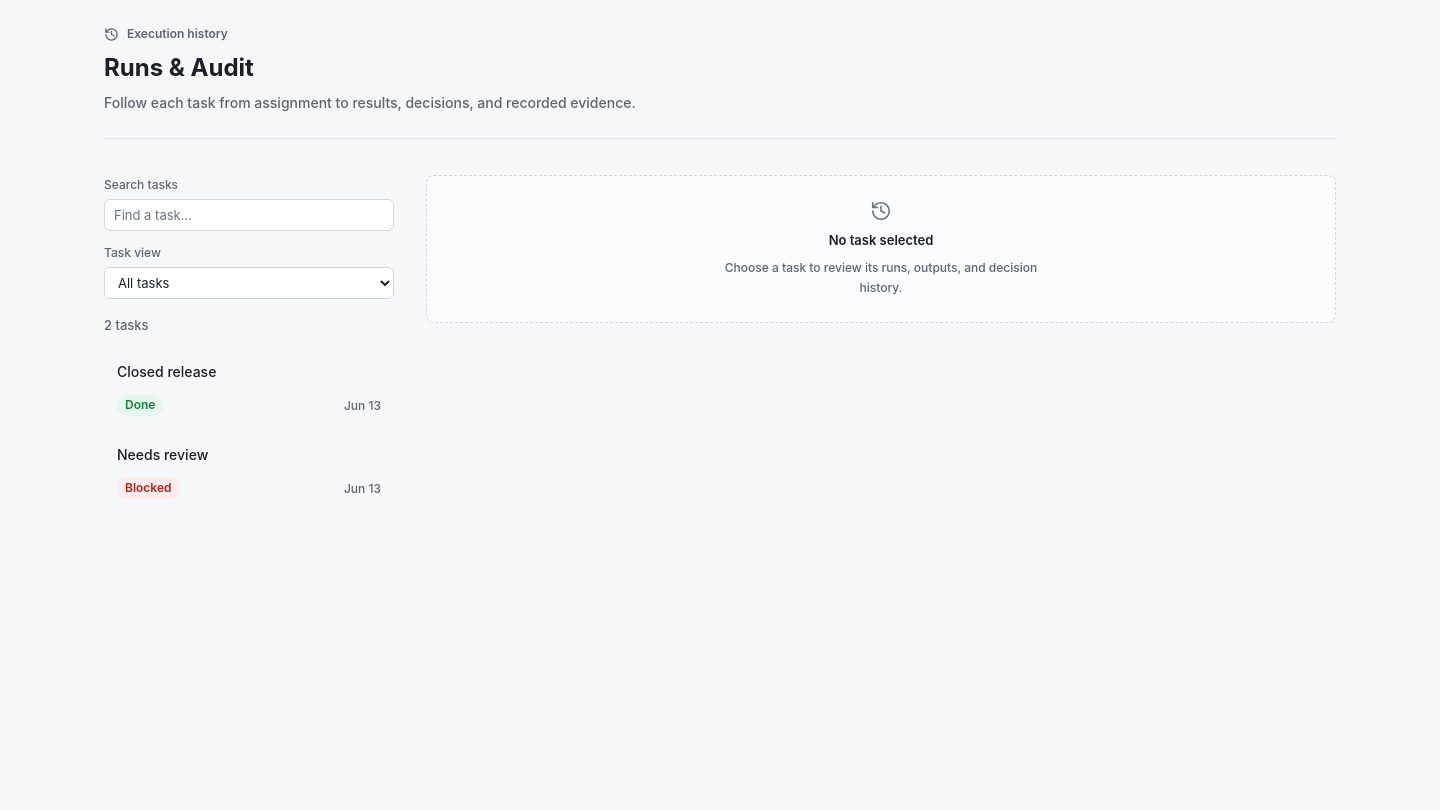
Test: RunsAuditPage › filters tasks while preserving the evidence already selected
This screenshot has width=1440, height=810.
Click the button "Closed release done Jun 13". click: {"x": 167, "y": 372}
box: [104,348,394,429]
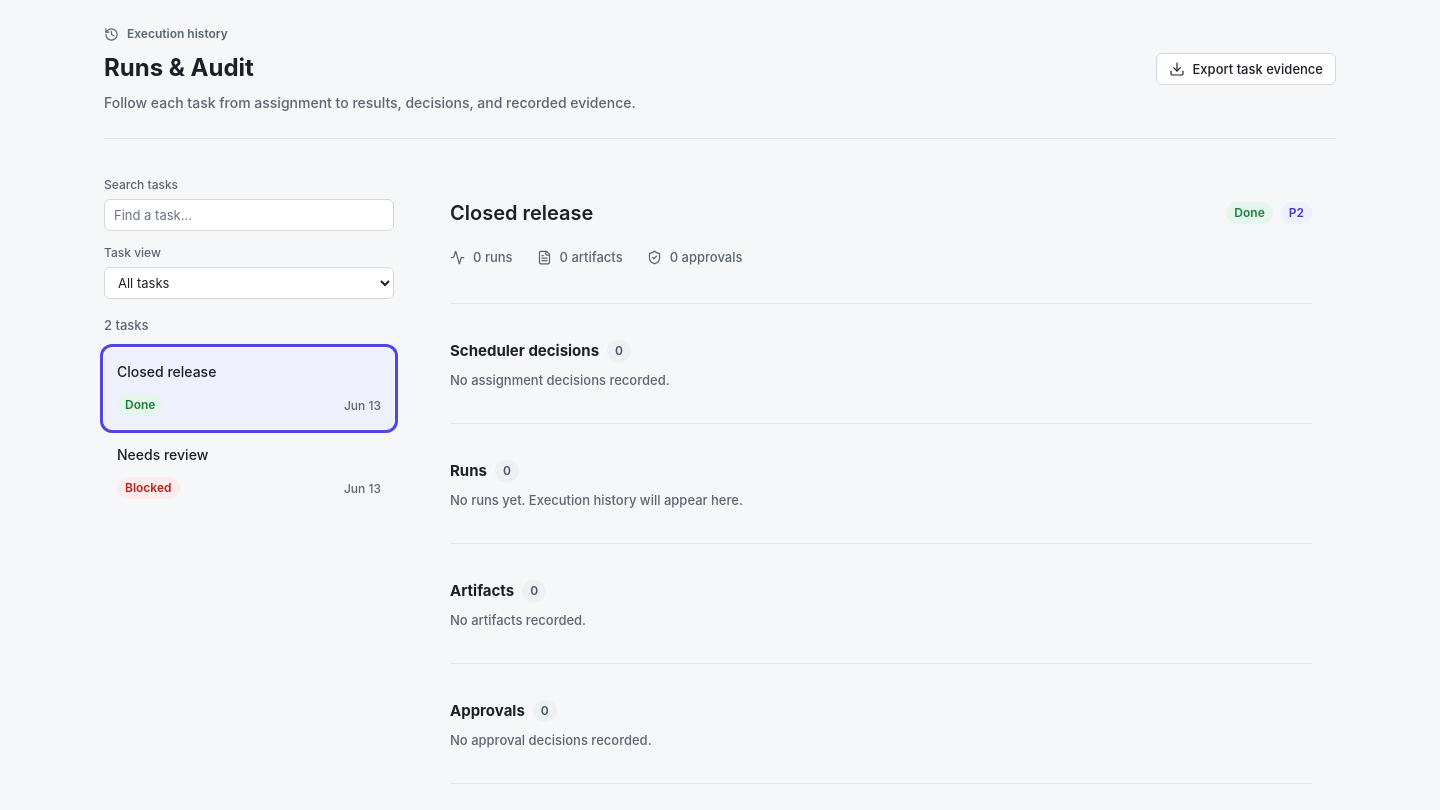
Check: the element named "Task summary" shows "Closed release", box [450,201,593,225]
Select "Needs attention" in the dropdown labelled "Task view". click: {"x": 249, "y": 283}
box: [104,267,394,299]
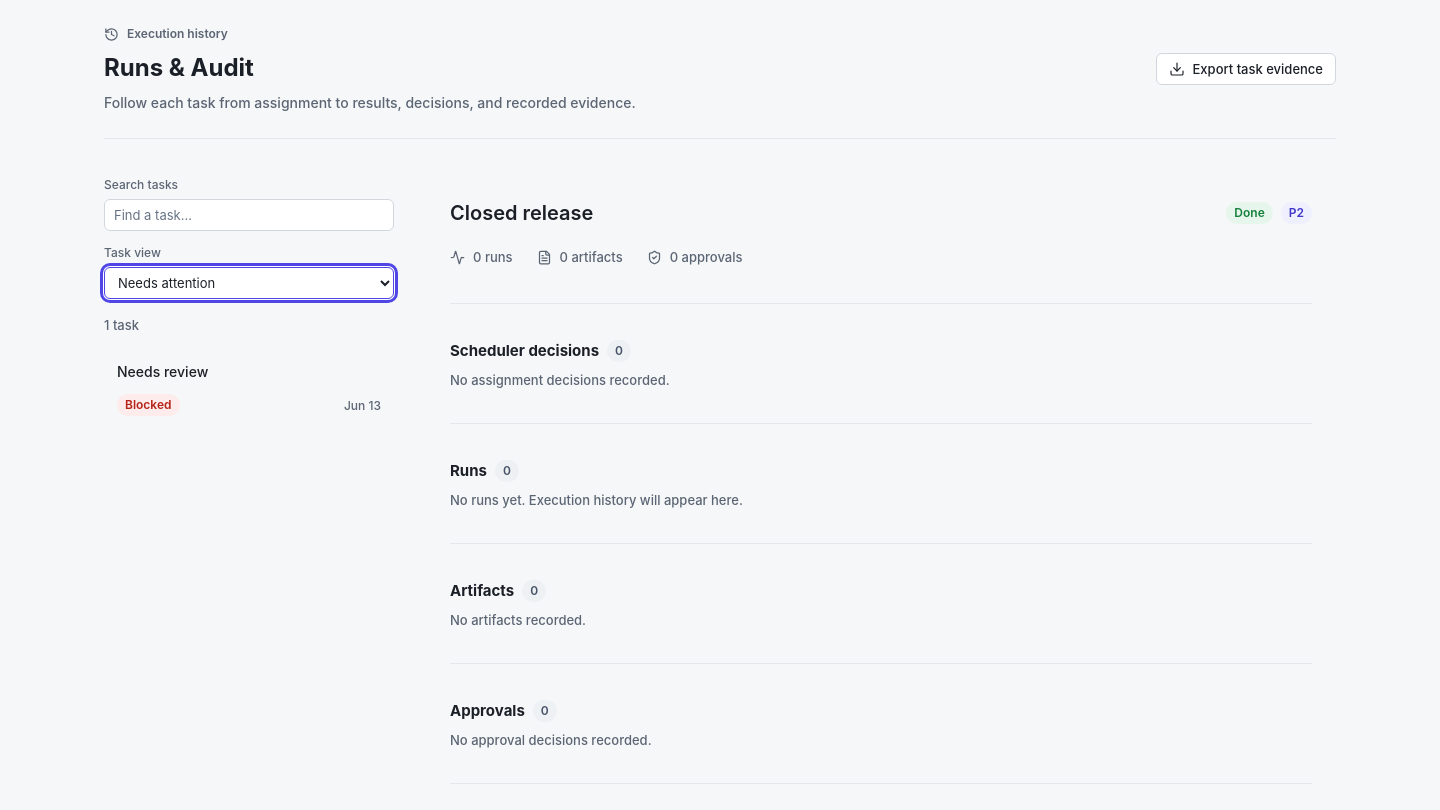
Check: the button "Needs review blocked Jun 13" is shown, box [104,348,394,429]
Check: the element named "Task summary" shows "Closed release", box [450,201,593,225]
Type "no matching task" into the field labelled "Search tasks". click: {"x": 249, "y": 215}
box: [104,199,394,231]
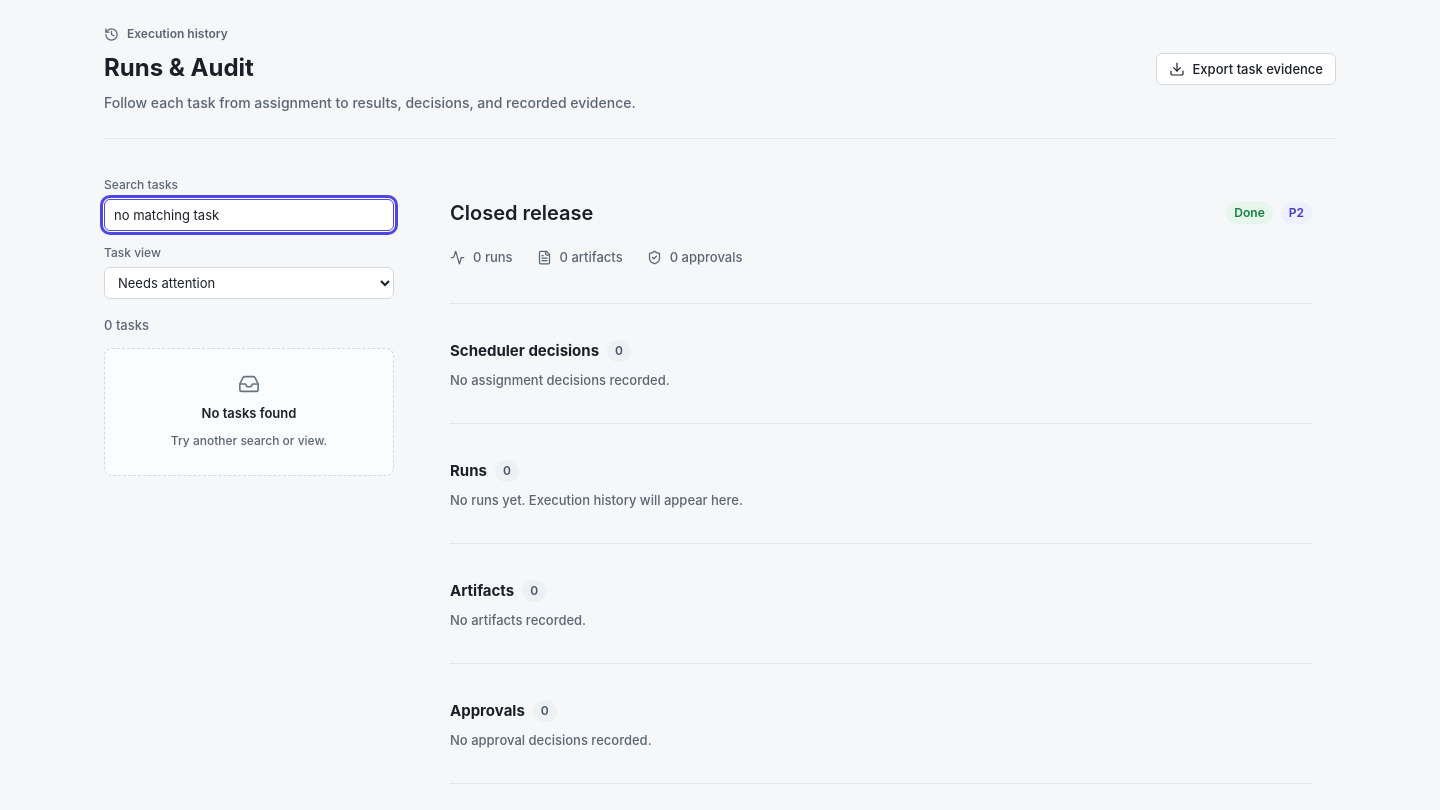
Check: the text "No tasks found" is shown, box [202,403,296,423]
